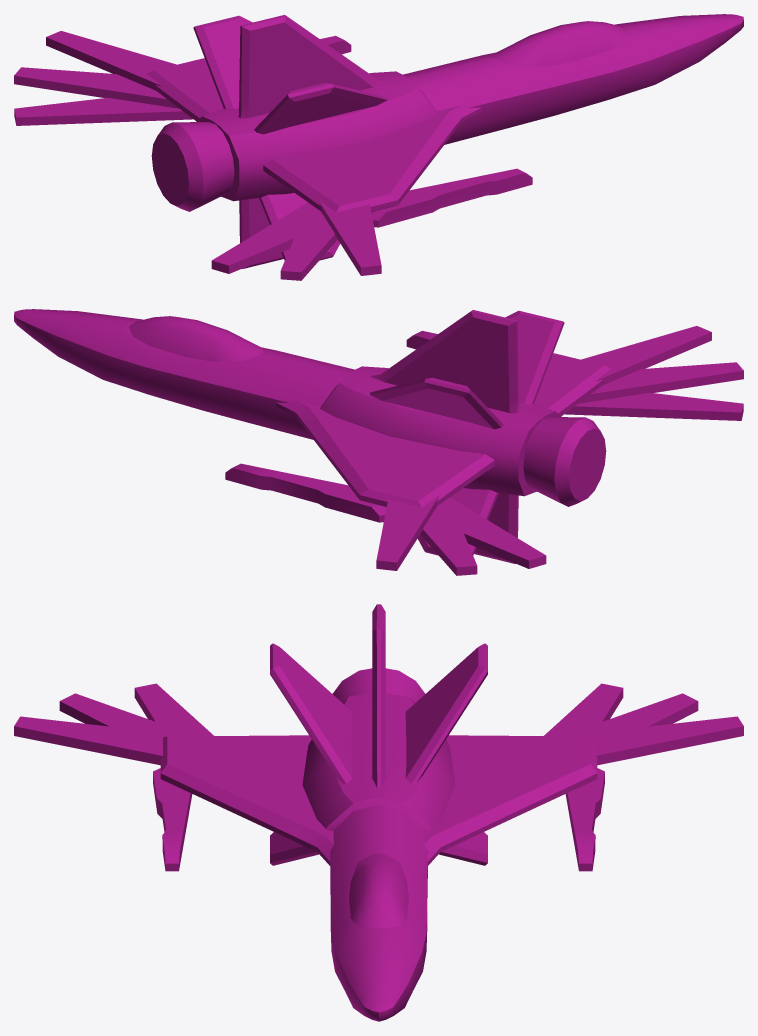
The picture shows the model from 3 angles, top to bottom: view 1: azimuth 30°, elevation 25°; view 2: azimuth 150°, elevation 25°; view 3: azimuth 270°, elevation 25°; orthographic projection. The views are drawn at different scales.
Parts seen in each view (by area): view 1: StarSparrow9; view 2: StarSparrow9; view 3: StarSparrow9.
Boxes of the visible parts, x1,y1,x2,y2 form: StarSparrow9: (14,14,743,280); StarSparrow9: (14,309,743,575); StarSparrow9: (14,604,743,1021).
Bounding box in the file's own units: 457 × 168 × 403.
